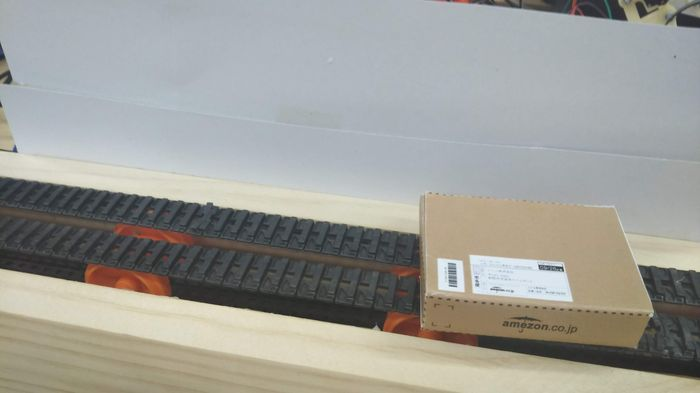box2: (415, 192, 654, 349)
